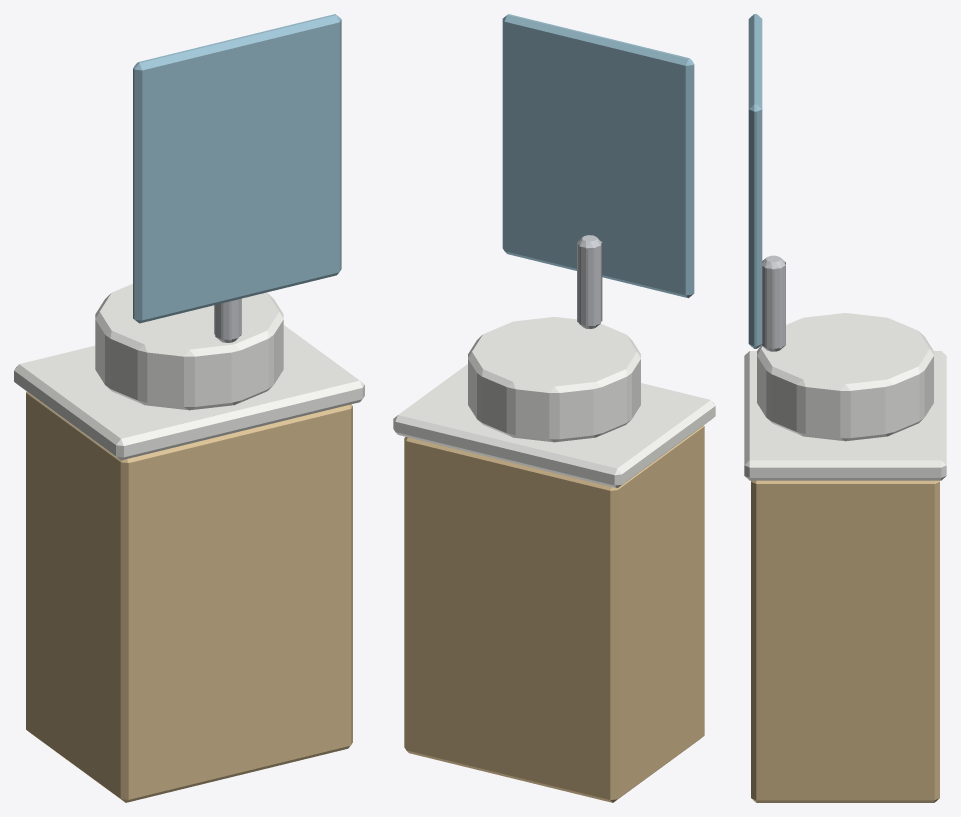
File: 厨卫_洗手台_01.fbx
3 views of the same model, side by side, from view 1: azimuth 30°, elevation 25°; view 2: azimuth 150°, elevation 25°; view 3: azimuth 270°, elevation 25° (orthographic). The views are drawn at different scales.
Visible parts, largest first — view 1: 柜体.005, 镜子, 台面.003, 台盆, 龙头.001; view 2: 柜体.005, 镜子, 台盆, 台面.003, 龙头.001; view 3: 柜体.005, 台盆, 台面.003, 镜子, 龙头.001.
Part boxes in pixels (left/top/right/bottom): 柜体.005: left=26, top=392, right=352, bottom=802; 镜子: left=133, top=14, right=341, bottom=323; 台面.003: left=14, top=325, right=364, bottom=460; 台盆: left=95, top=284, right=283, bottom=410; 龙头.001: left=214, top=298, right=241, bottom=342; 柜体.005: left=404, top=425, right=704, bottom=802; 镜子: left=502, top=14, right=694, bottom=298; 台盆: left=468, top=317, right=640, bottom=442; 台面.003: left=393, top=364, right=715, bottom=488; 龙头.001: left=577, top=235, right=602, bottom=328; 柜体.005: left=751, top=480, right=939, bottom=802; 台盆: left=757, top=313, right=933, bottom=441; 台面.003: left=744, top=351, right=946, bottom=480; 镜子: left=748, top=14, right=762, bottom=348; 龙头.001: left=761, top=255, right=785, bottom=351.
Bounding box in the file's own units: 60 × 170 × 45.
